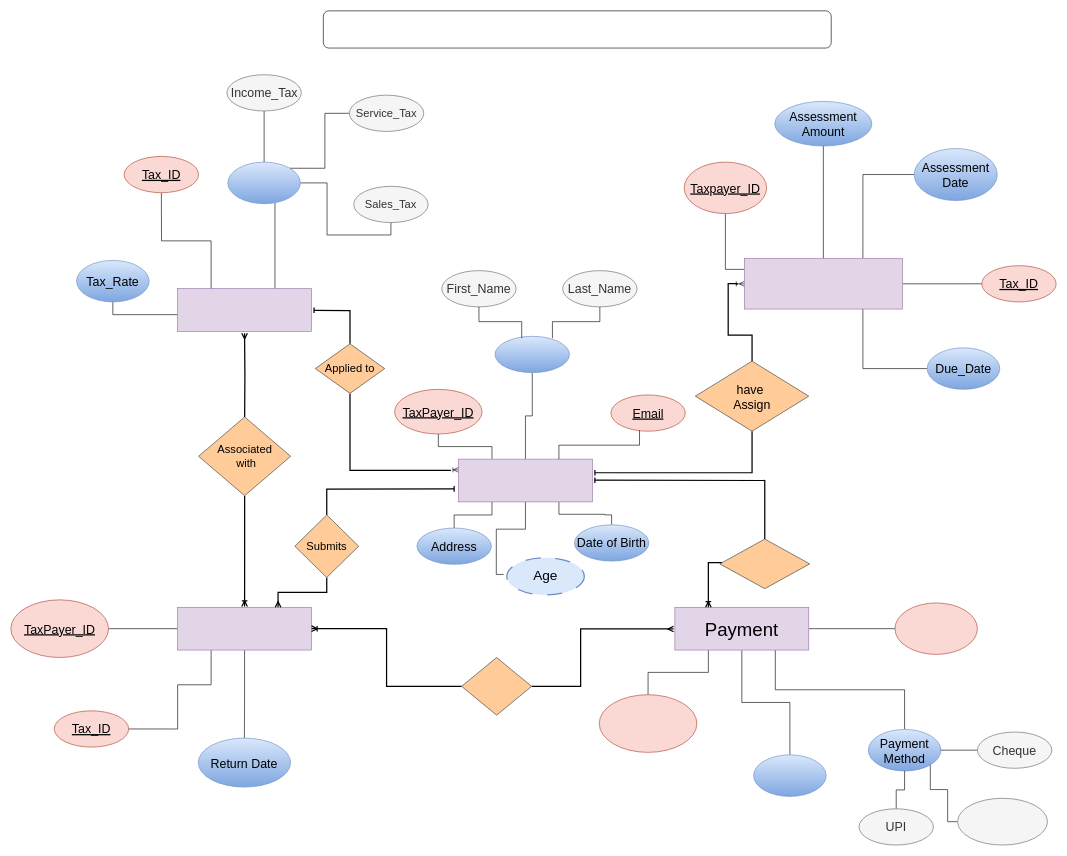
The diagram is 1067 pixels wide and 856 high, and some of its shapes have lost their labels. Each missing label, with the centre of its shape:
Credit/Debit Card: (1002,821)
ER Diagram for Government Tax filling Service: (577,29)
Name: (531,354)
Payment Date: (789,775)
Payment_ID: (935,628)
Pays: (764,563)
Settled: (496,686)
Tax: (244,309)
Tax Assessment: (823,283)
Tax Payer: (525,480)
Tax Return: (244,628)
Tax_Name: (263,183)
Transaction_ID: (648,723)
